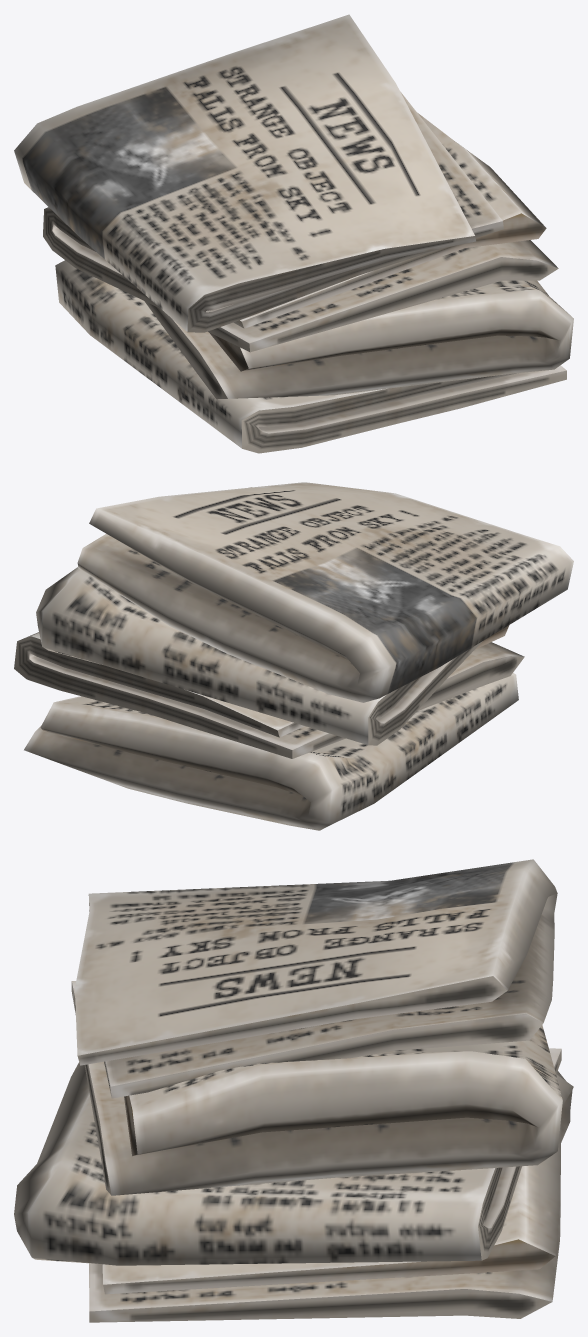
The model's file is newspaper_D.fbx.
The picture shows the model from 3 angles, top to bottom: view 1: azimuth 30°, elevation 25°; view 2: azimuth 150°, elevation 25°; view 3: azimuth 270°, elevation 25°; orthographic projection. The views are drawn at different scales.
Parts seen in each view (by area): view 1: newspaper_D; view 2: newspaper_D; view 3: newspaper_D.
Part boxes in pixels (x1,y1,x2,y2): newspaper_D: (14, 14, 573, 453); newspaper_D: (14, 482, 573, 830); newspaper_D: (14, 859, 573, 1322).
Bounding box in the file's own units: 40.62 × 24.57 × 38.87.
